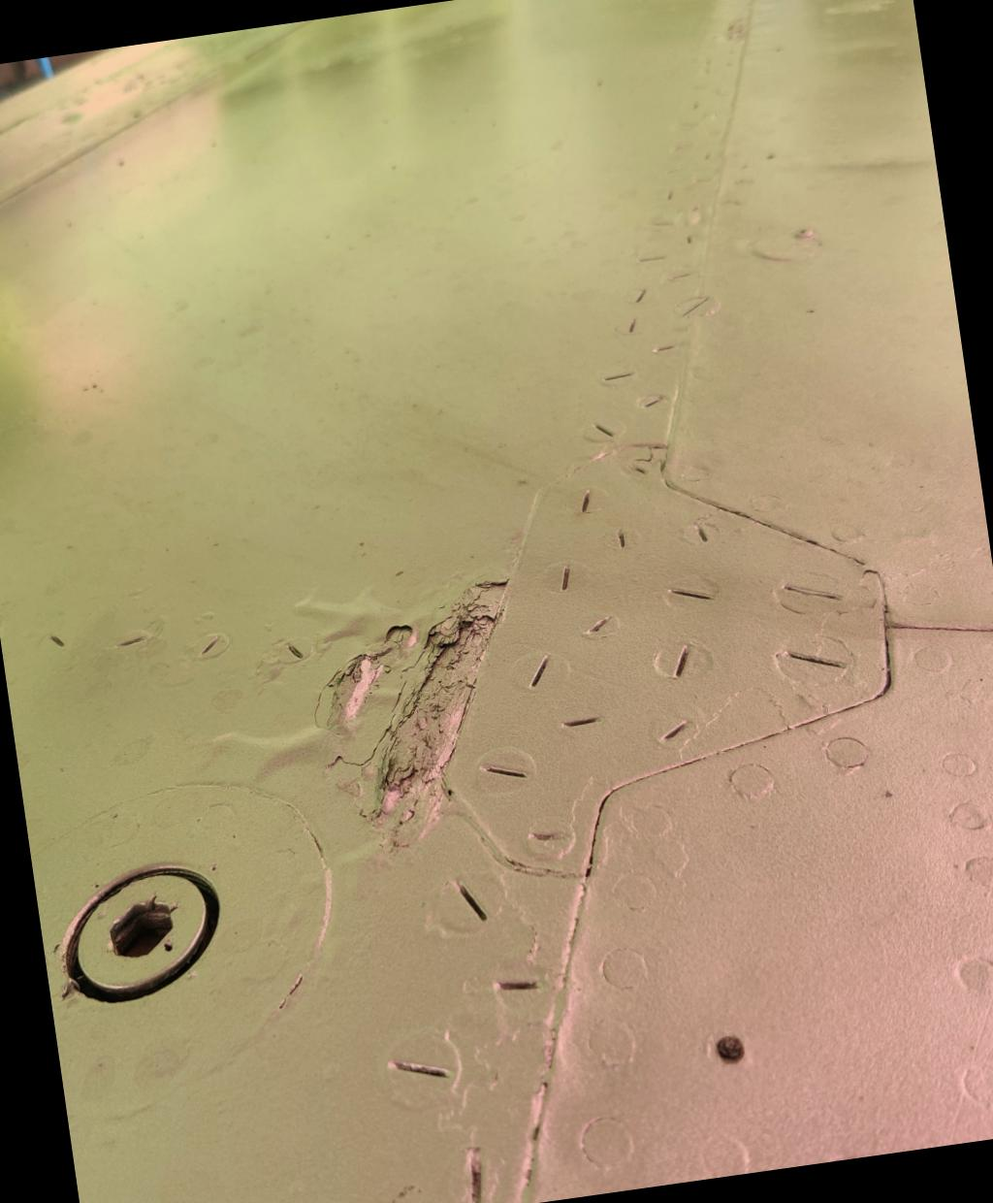corrosion: (305, 577, 541, 856)
